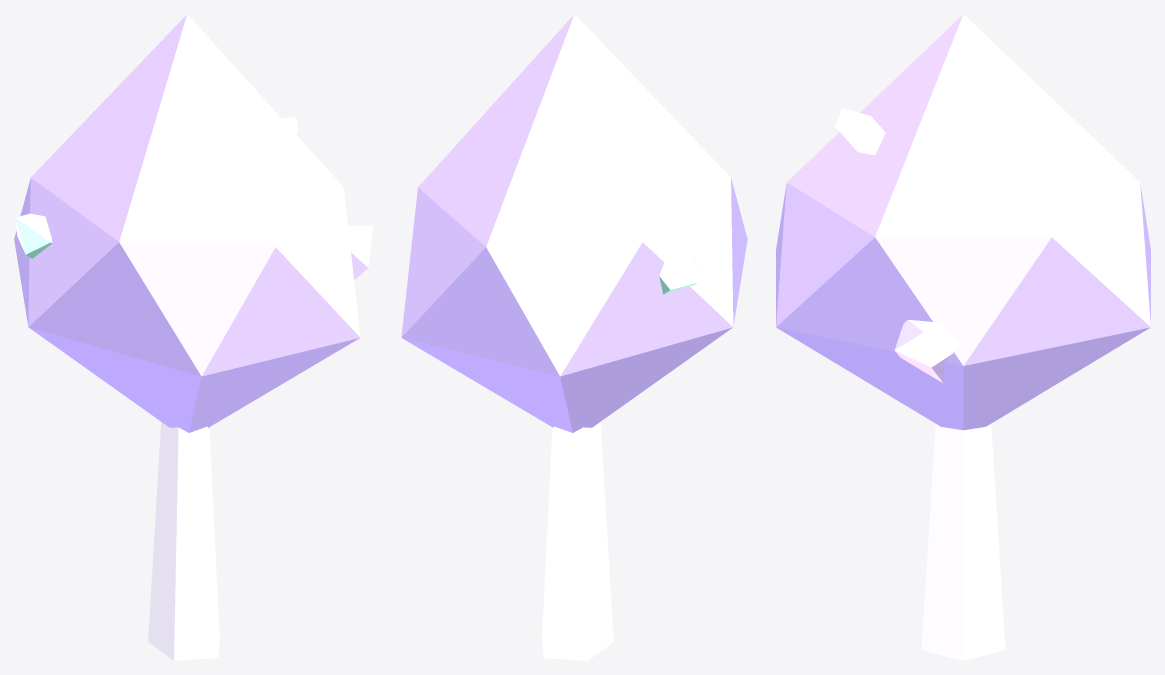
Rendered from crystal-tree-a.glb.
3 renders of one model, left to right at view 1: azimuth 30°, elevation 25°; view 2: azimuth 150°, elevation 25°; view 3: azimuth 270°, elevation 25°, orthographic.
Parts seen in each view (by area): view 1: crystal-tree-a; view 2: crystal-tree-a; view 3: crystal-tree-a.
Boxes of the visible parts, box(x1,y1,x2,y2) form: crystal-tree-a: box(14, 14, 372, 660); crystal-tree-a: box(401, 14, 747, 660); crystal-tree-a: box(776, 14, 1150, 660).
Size of the model in its own units: 2.24 by 4.16 by 2.24.
